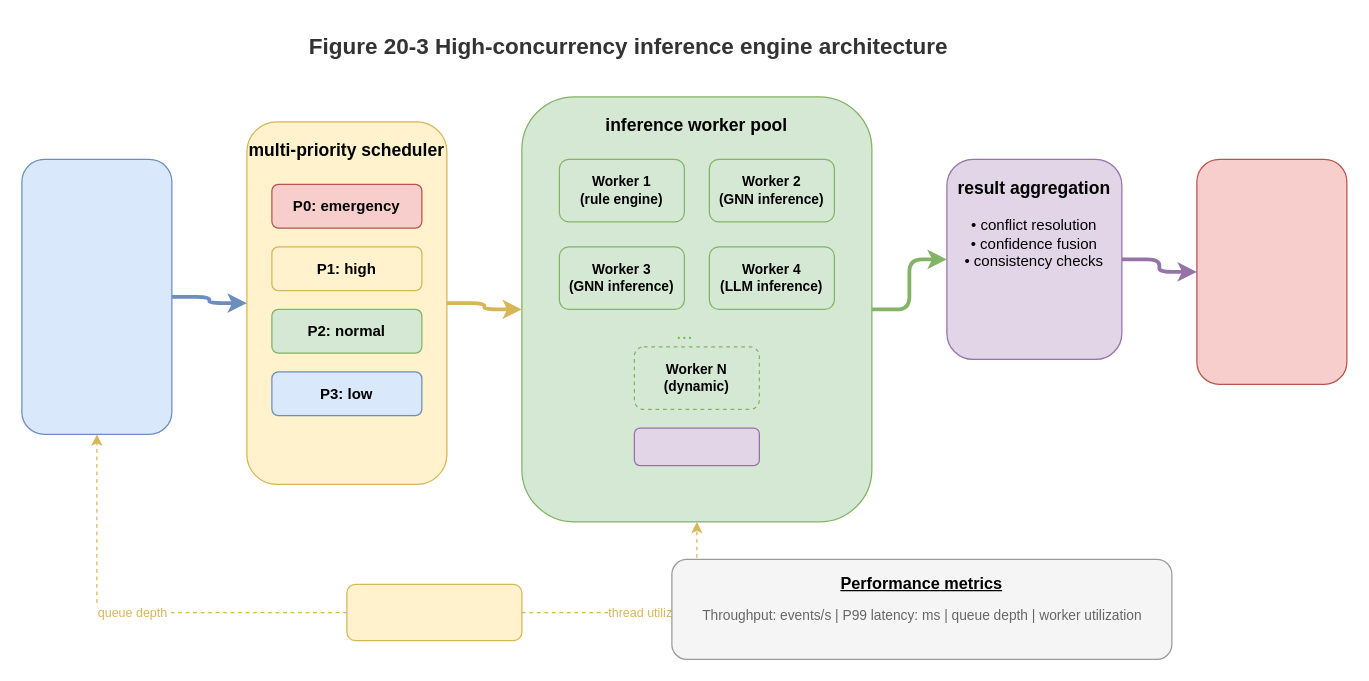
Image size: 1369x681. Some labels were removed from this diagram. The shapes that lost their labels are listed below. From the top down, each one's centre as x and y in pixels, then its label:
At point 1271,271: "output queue Result₁ Result₂ Result₃ ...".
At point 96,296: "event queue Event₁ Event₂ Event₃ Event₄ ...".
At point 696,446: "⇕ auto scale".
At point 434,612: "load monitor".
